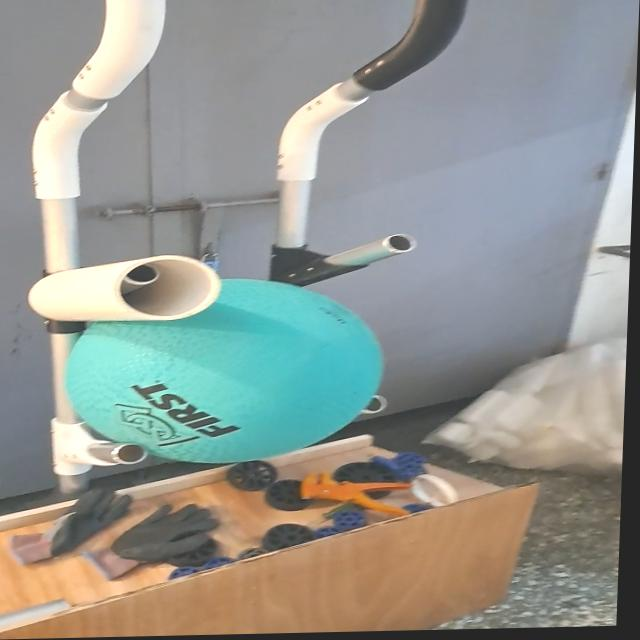ALGAE: (61, 273, 392, 470)
CORAL: (31, 249, 226, 326)
